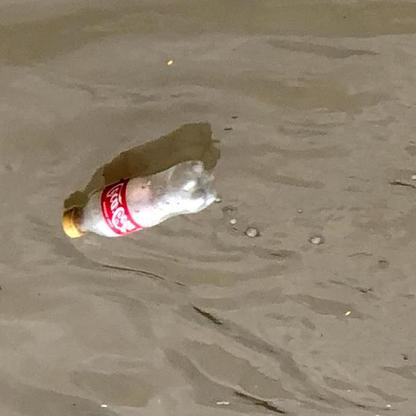plastic bottle: (63, 160, 214, 238)
